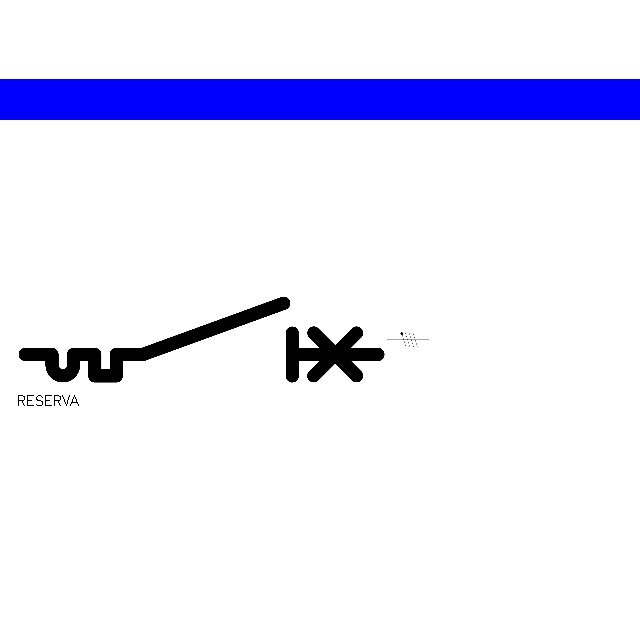interruptor_termomagnetico: (16, 294, 387, 385)
